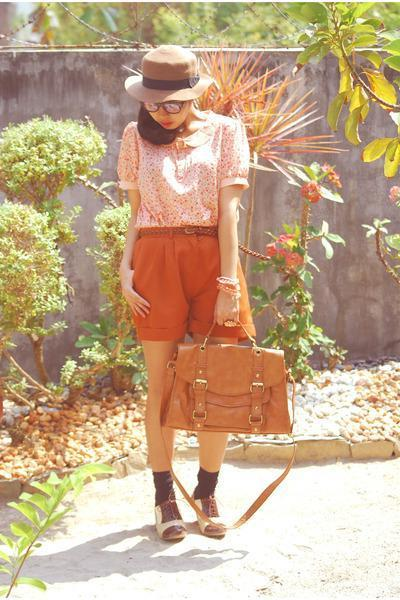Shorts: (124, 226, 256, 345)
short sleeve shirt: (112, 110, 254, 230)
